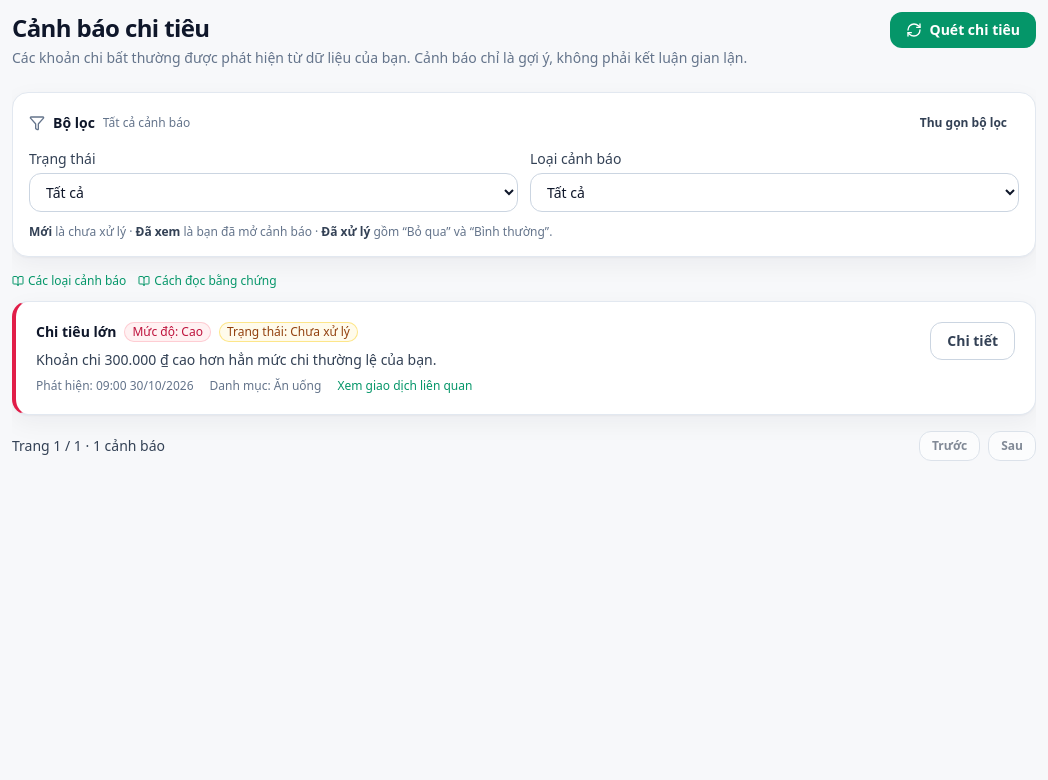
Scenario: AlertsPage — scan › never claims completeness for a truncated scan and names the limits reached
The width and height of the screenshot is (1048, 780).
Expected: the text "Mức độ: Cao" is shown, left=124, top=322, right=211, bottom=342
Click the button "Quét chi tiêu" at (963,30), box left=890, top=12, right=1036, bottom=48
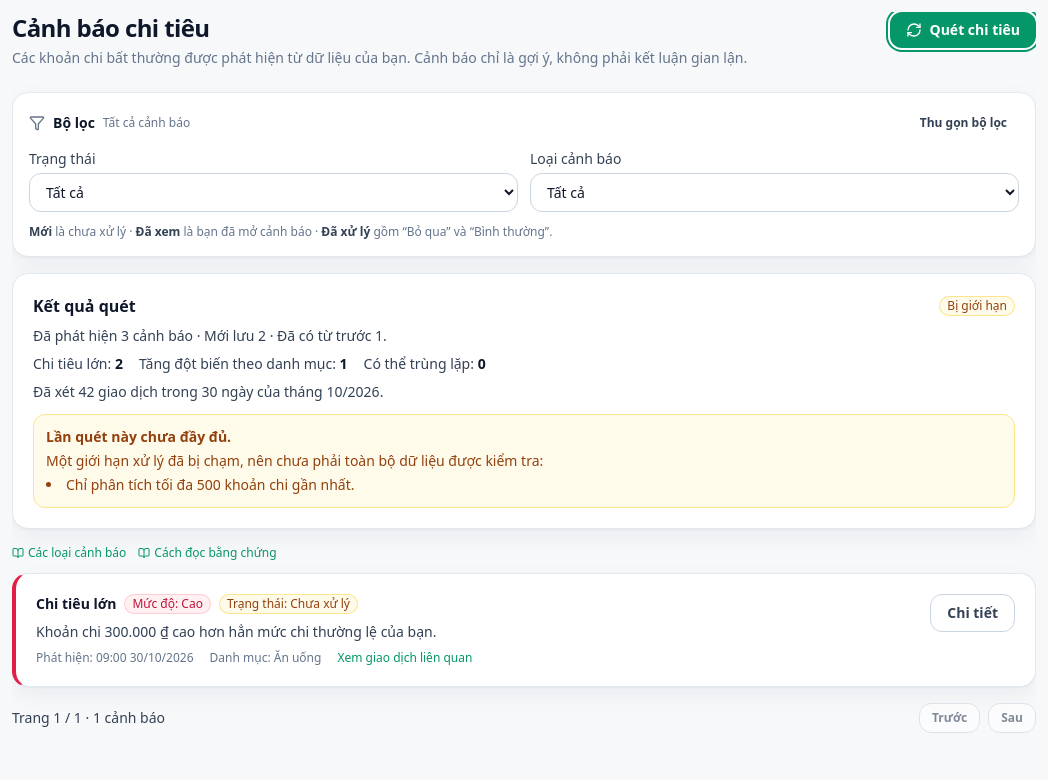
Expected: the text "Bị giới hạn" is shown, left=939, top=296, right=1015, bottom=316
Expected: the text "Lần quét này chưa đầy đủ." is shown, left=46, top=427, right=231, bottom=446
Expected: the list item "Chỉ phân tích tối đa 500 khoản chi gần nhất." is shown, left=66, top=475, right=354, bottom=494
